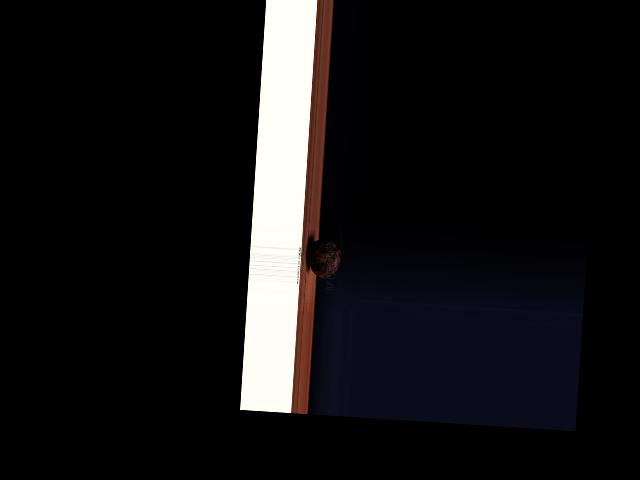beet: (305, 226, 342, 279)
